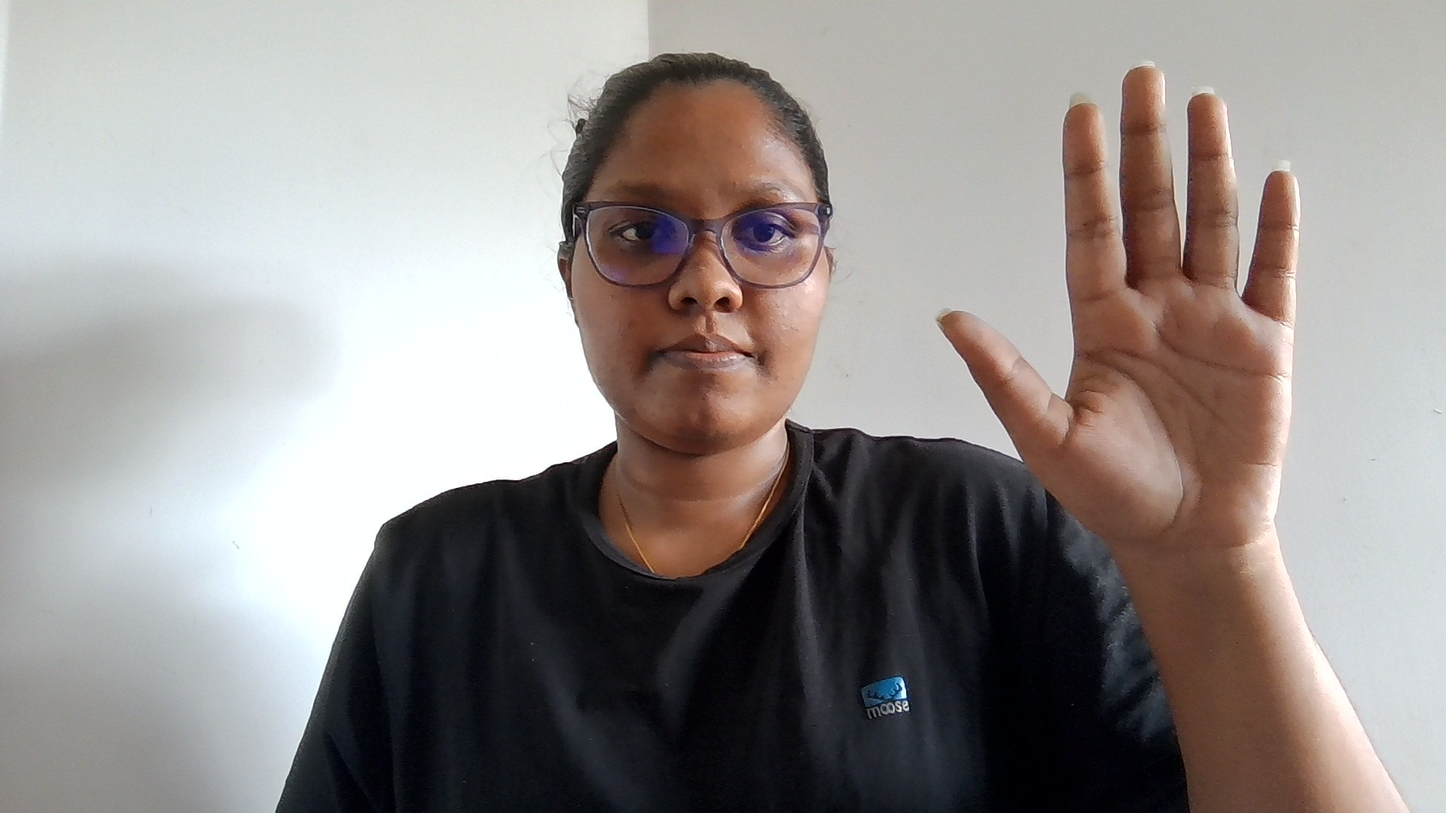Hello: (928, 31, 1359, 566)
